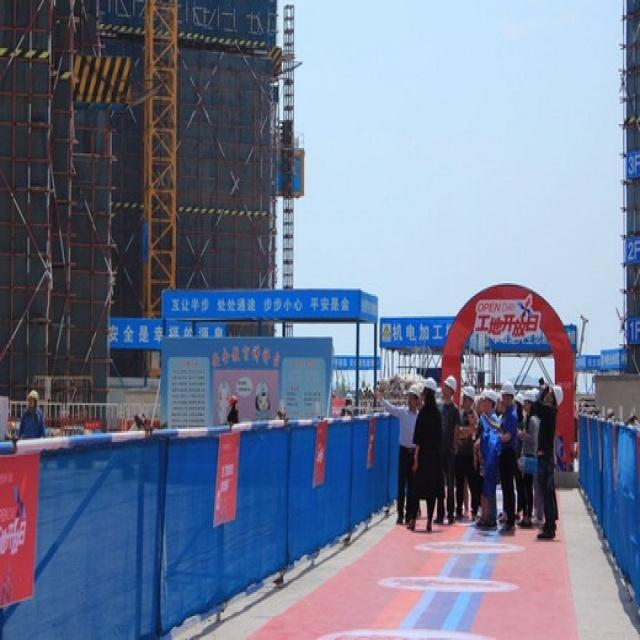helmet: (544, 508, 564, 545), (500, 505, 516, 543), (442, 499, 458, 533), (423, 500, 438, 535), (481, 518, 497, 550), (406, 513, 420, 548), (461, 514, 475, 546), (26, 516, 38, 545), (522, 520, 534, 547), (514, 523, 524, 549), (228, 525, 239, 548), (344, 524, 355, 541)
